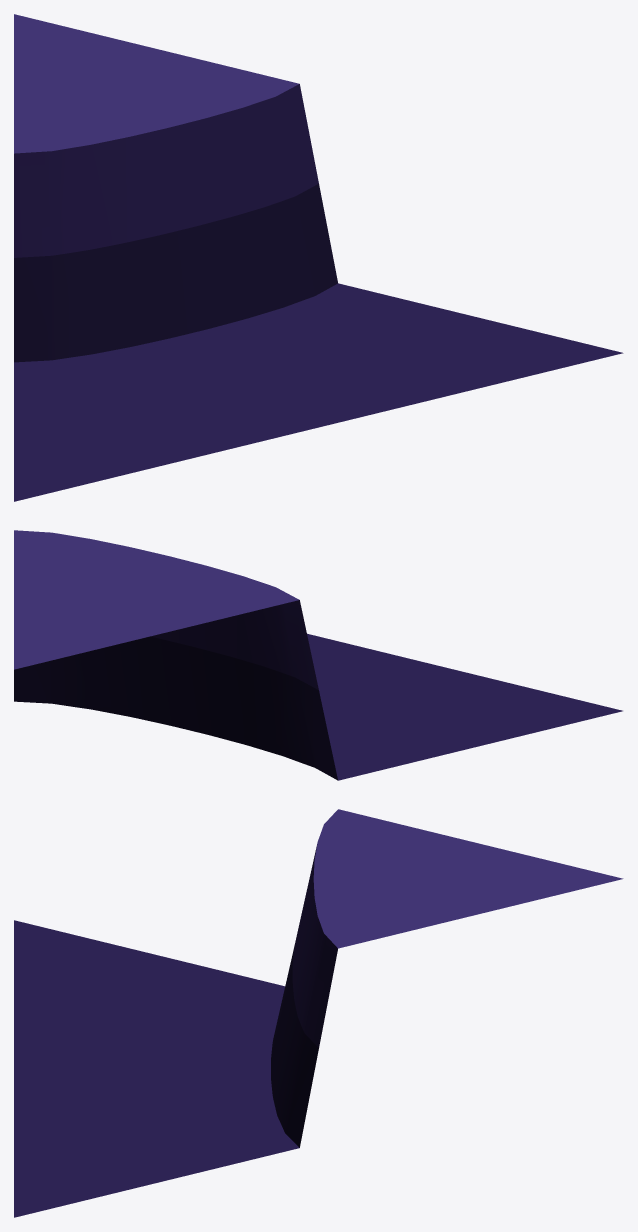
Rendered from MODULE_ALIEN_CLIFF_CORNER_1.fbx.
3 views of the same model, one above another, from view 1: azimuth 30°, elevation 25°; view 2: azimuth 150°, elevation 25°; view 3: azimuth 270°, elevation 25° (orthographic).
Parts seen in each view (by area): view 1: MODULE_ALIEN_CLIFF_CORNER_1__export; view 2: MODULE_ALIEN_CLIFF_CORNER_1__export; view 3: MODULE_ALIEN_CLIFF_CORNER_1__export.
Boxes of the visible parts, x1,y1,x2,y2 form: MODULE_ALIEN_CLIFF_CORNER_1__export: [14, 14, 623, 501]; MODULE_ALIEN_CLIFF_CORNER_1__export: [14, 530, 622, 780]; MODULE_ALIEN_CLIFF_CORNER_1__export: [14, 809, 623, 1217].
Size of the model in its own units: 100 by 29.78 by 86.6.
